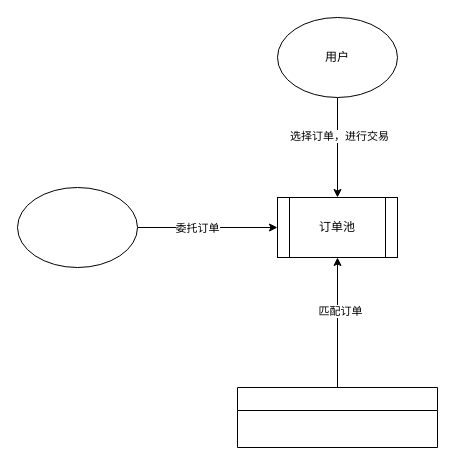
Image size: 455x465. Some labels were removed from this diagram. Here are the shapes that lost their labels. From the top down, the centre of each, then its label:
At pixel 77 227: "委托用户".
At pixel 337 417: "矿工群".
